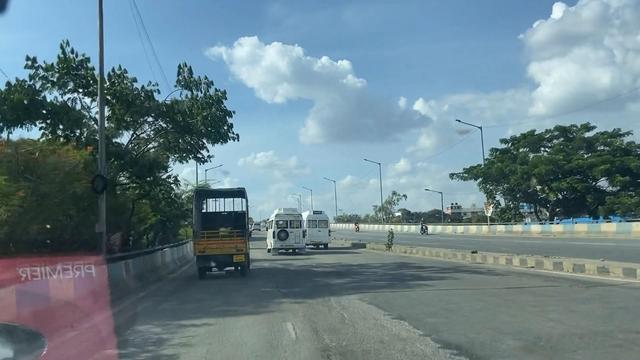HMV: (189, 182, 252, 268), (269, 204, 304, 251), (310, 207, 331, 252)
